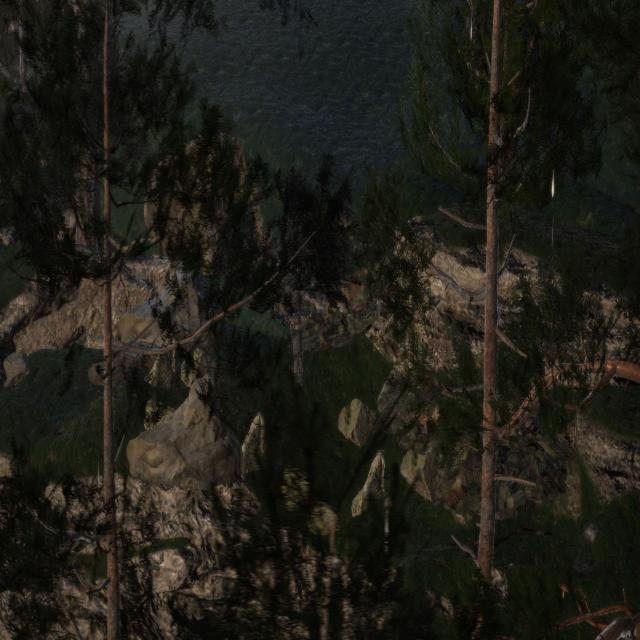Human: (279, 304, 322, 411)
